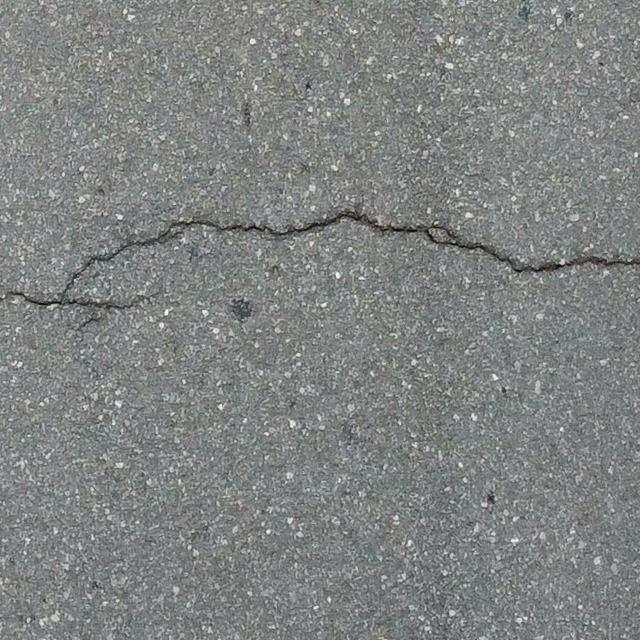TransverseCrack: (7, 208, 640, 311)
